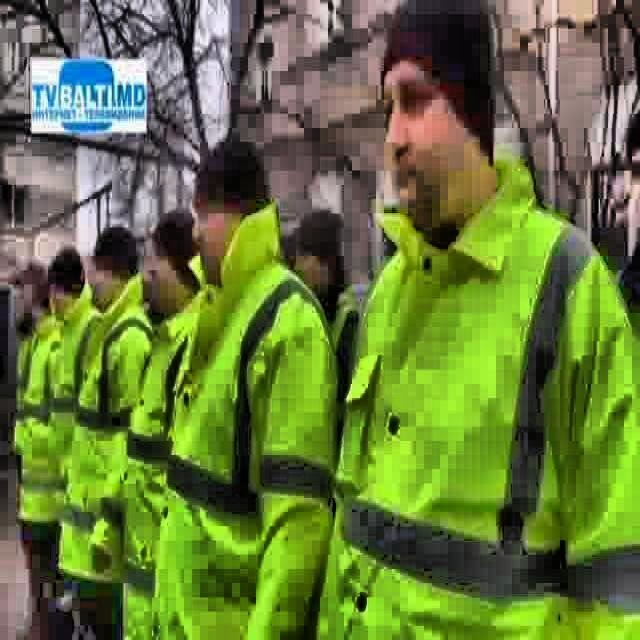safety_jacket: (316, 150, 640, 640), (150, 202, 338, 640), (57, 270, 158, 585), (120, 282, 201, 640), (46, 282, 98, 534), (18, 314, 66, 534)
